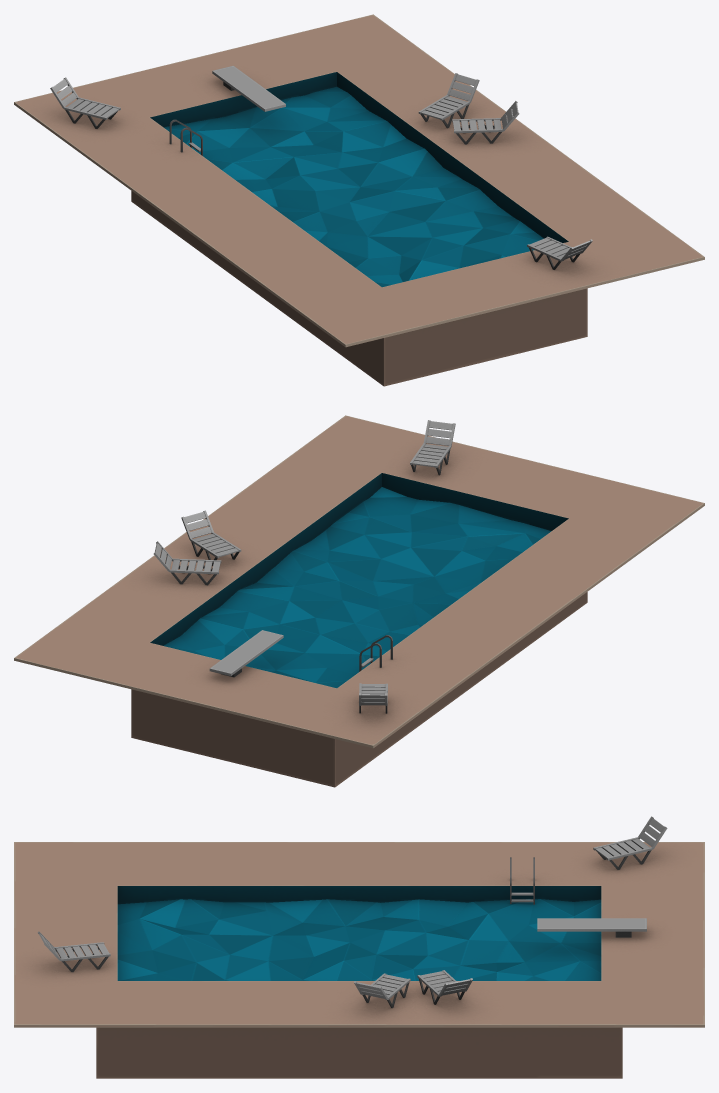
File: SwimmingPool.gltf
3 views of the same model, one above another, from view 1: azimuth 30°, elevation 25°; view 2: azimuth 150°, elevation 25°; view 3: azimuth 270°, elevation 25° (orthographic). The views are drawn at different scales.
Visible parts, largest first — view 1: node-0; view 2: node-0; view 3: node-0.
Part boxes in pixels (box(x1,y1,x2,y2)): node-0: box(14, 14, 704, 386); node-0: box(14, 415, 704, 787); node-0: box(14, 816, 704, 1078).
Bounding box in the file's own units: 26.8 × 8.56 × 42.82.
Materials: 1 (1 with a texture image).
